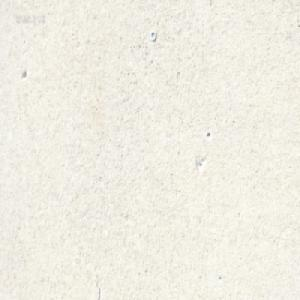Washer: (149, 30, 156, 41)
